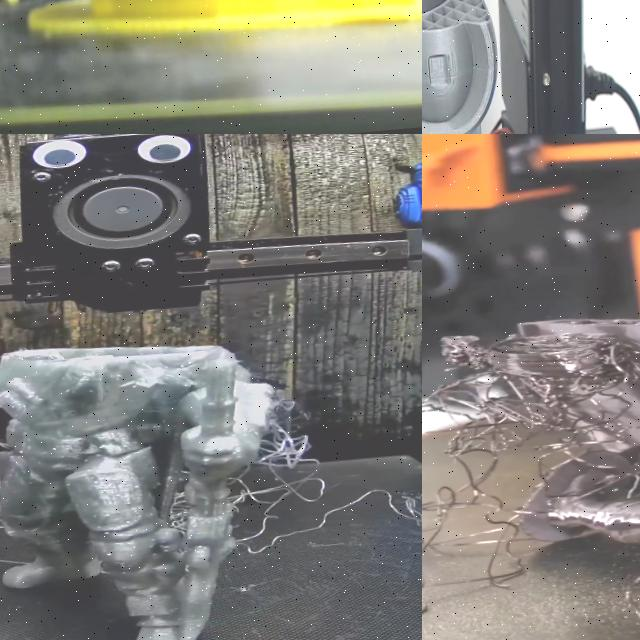spaghetti: (422, 297, 640, 640), (226, 446, 422, 575)
